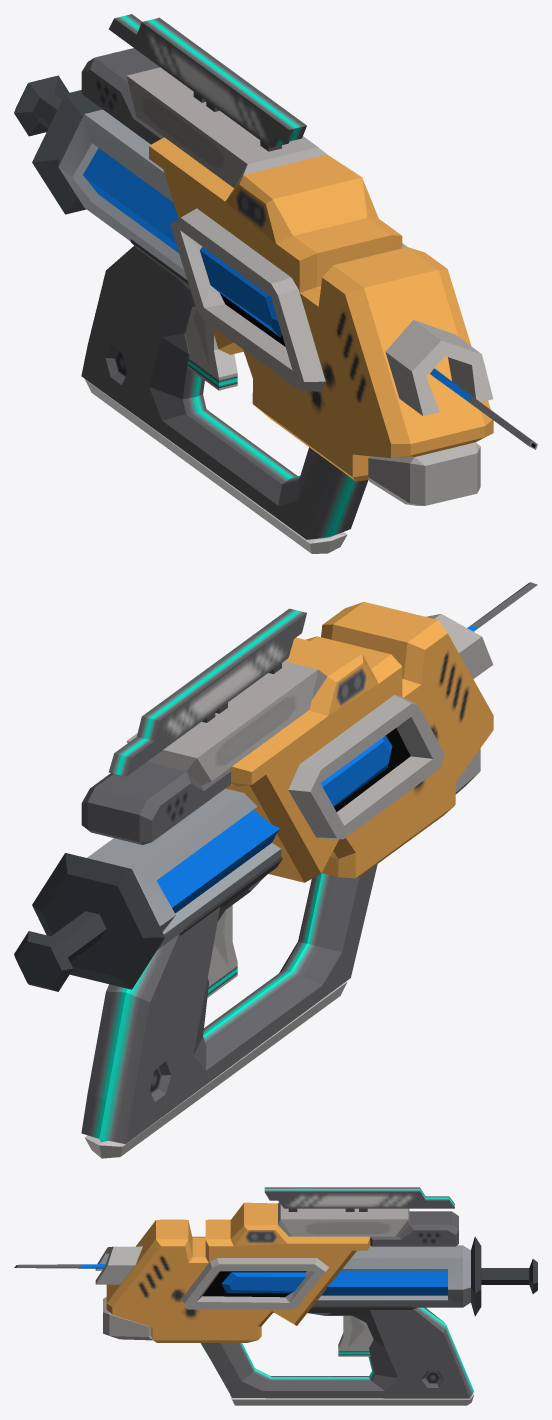
File: SM_Prop_Syringe_Gun_01.fbx
3 views of the same model, one above another, from view 1: azimuth 30°, elevation 25°; view 2: azimuth 150°, elevation 25°; view 3: azimuth 270°, elevation 25° (orthographic). The views are drawn at different scales.
Visible parts, largest first — view 1: SM_Prop_Syringe_Gun_01; view 2: SM_Prop_Syringe_Gun_01; view 3: SM_Prop_Syringe_Gun_01.
Boxes of the visible parts, bbox=[...] form: SM_Prop_Syringe_Gun_01: bbox=[14, 14, 537, 553]; SM_Prop_Syringe_Gun_01: bbox=[14, 582, 537, 1158]; SM_Prop_Syringe_Gun_01: bbox=[14, 1187, 537, 1405].
Size of the model in its own units: 9.75 by 26.82 by 59.77.
